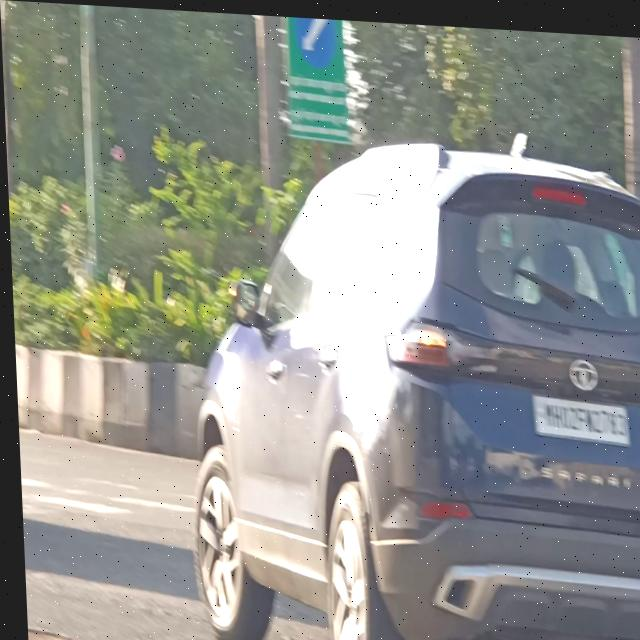plate: (526, 384, 629, 442)
